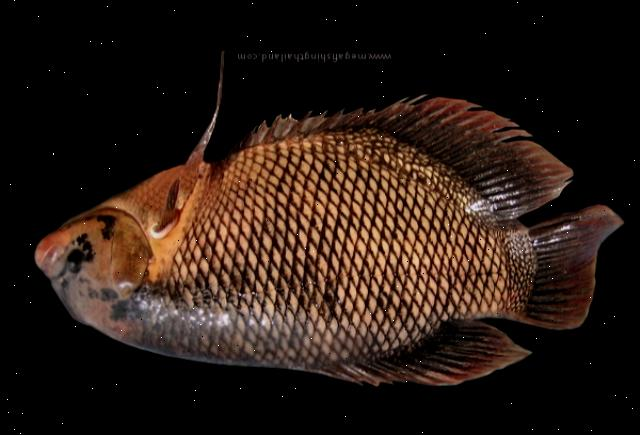Mulut: (15, 212, 99, 300)
Sirip Anal: (347, 78, 589, 226)
Sirip Dada: (141, 172, 199, 241)
Sirip Ekor: (484, 189, 630, 345)
Sirip Punggung: (295, 322, 551, 406)
